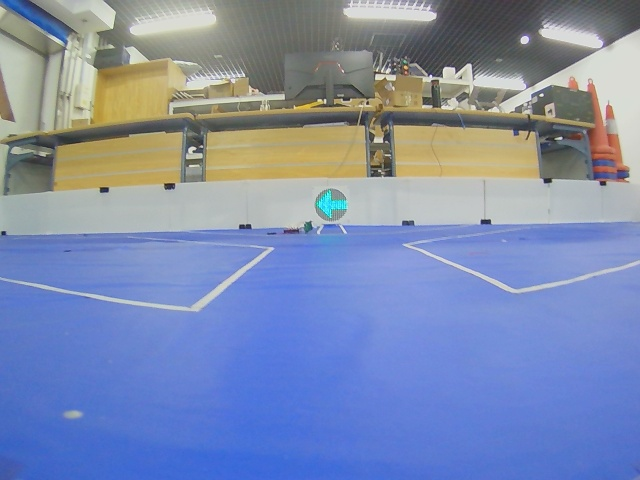left_green: (315, 189, 348, 221)
